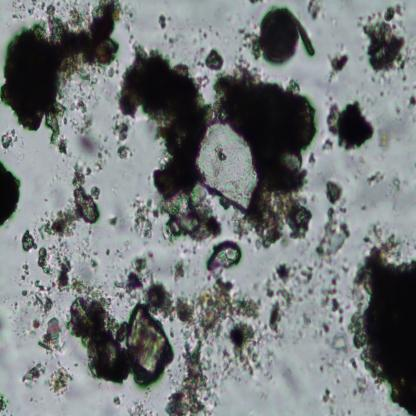Background material: (0, 0, 127, 171), (317, 225, 416, 416), (222, 72, 326, 253), (165, 287, 295, 415), (66, 258, 176, 387), (116, 40, 216, 168), (20, 229, 83, 339), (358, 0, 416, 93), (148, 170, 222, 236), (44, 166, 105, 243), (318, 177, 356, 268), (320, 98, 385, 150), (262, 260, 314, 300), (0, 160, 27, 230), (324, 40, 354, 88), (206, 242, 245, 277), (226, 46, 257, 86), (128, 194, 155, 238), (41, 317, 66, 359), (195, 43, 227, 74), (44, 363, 73, 397), (239, 25, 263, 66), (296, 22, 320, 59), (22, 360, 46, 389), (158, 6, 175, 46), (294, 0, 327, 19), (368, 161, 391, 187), (126, 401, 163, 416), (82, 242, 100, 270), (172, 257, 192, 282), (386, 180, 403, 207), (321, 386, 335, 413), (110, 212, 123, 230), (0, 394, 12, 412), (406, 97, 416, 116), (114, 392, 123, 408), (302, 307, 310, 325), (197, 28, 208, 40), (251, 0, 264, 6)
Diatom: (259, 9, 299, 66)
Fragment: (195, 118, 259, 217)
